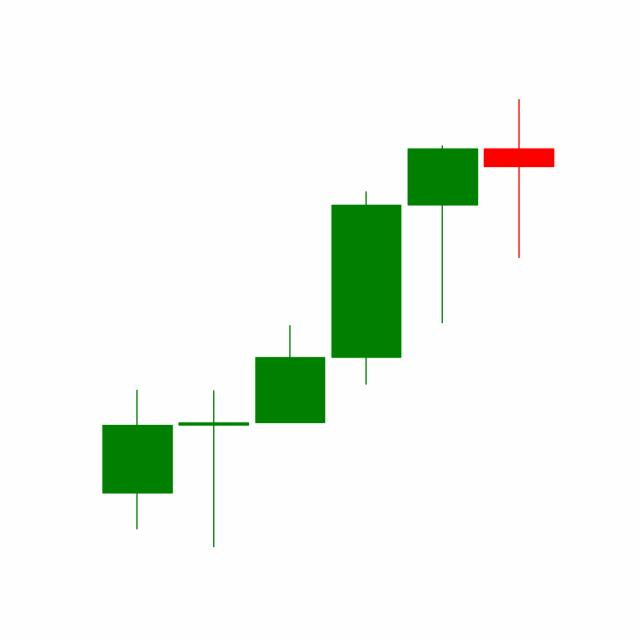Hanging Man: (403, 142, 481, 326)
